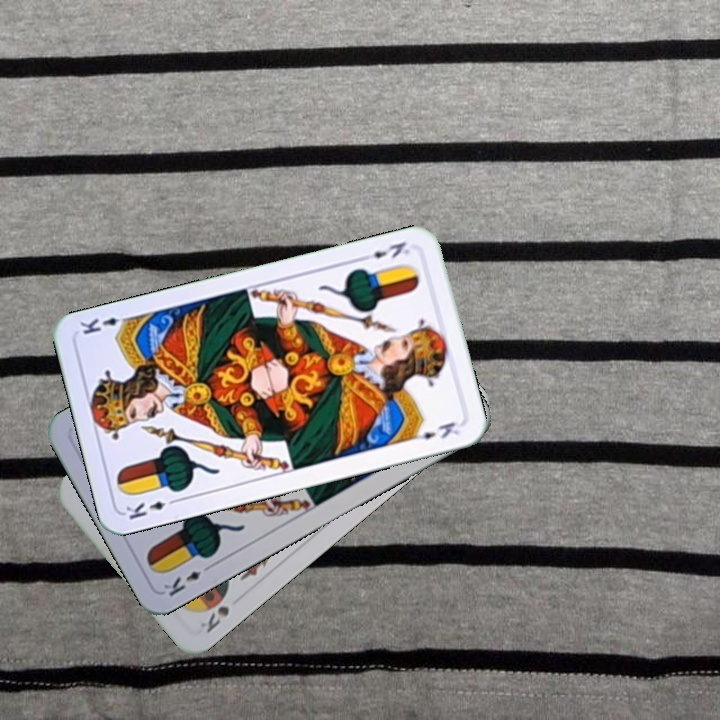EK: (159, 560, 216, 600), (121, 494, 181, 522), (357, 237, 412, 264)
SK: (196, 601, 232, 636)
